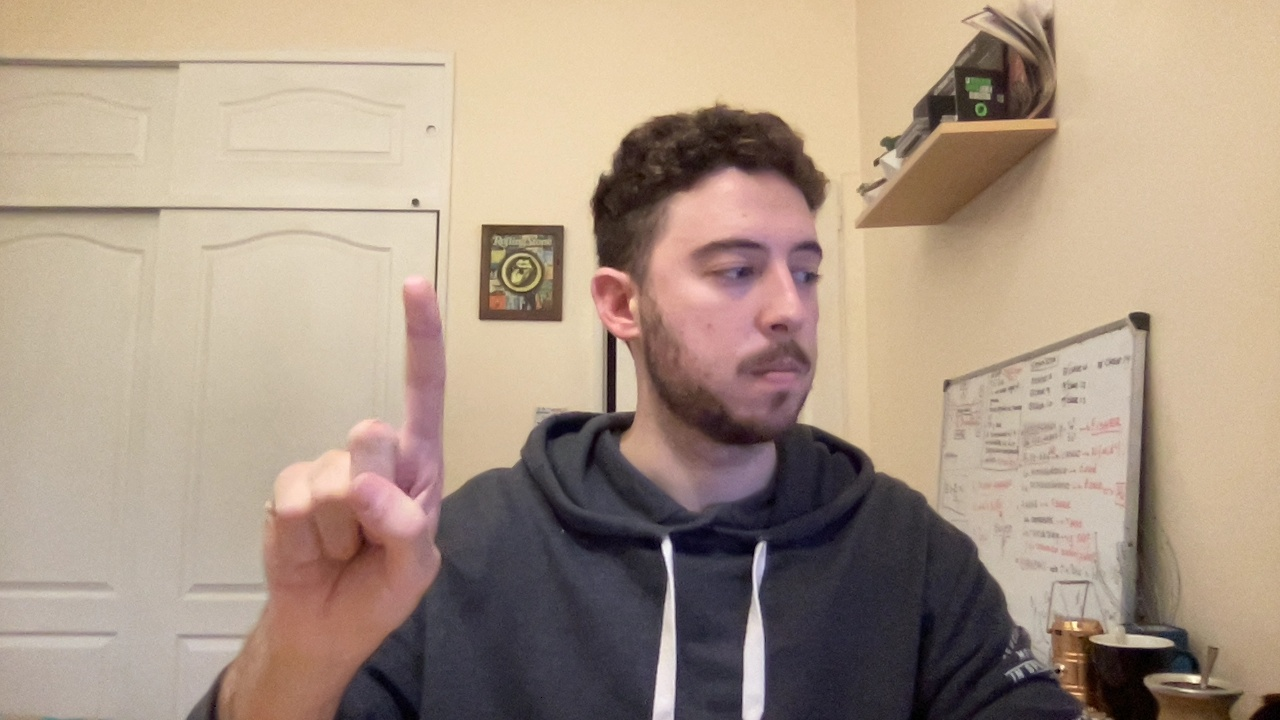indice: (225, 272, 476, 617)
